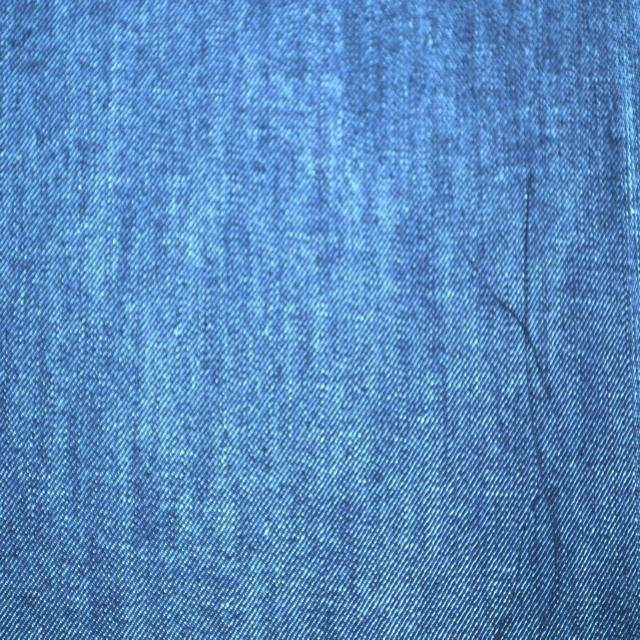defect: (455, 187, 582, 640)
